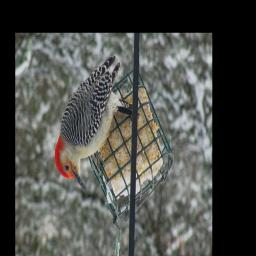Woodpecker: (54, 55, 135, 187)
